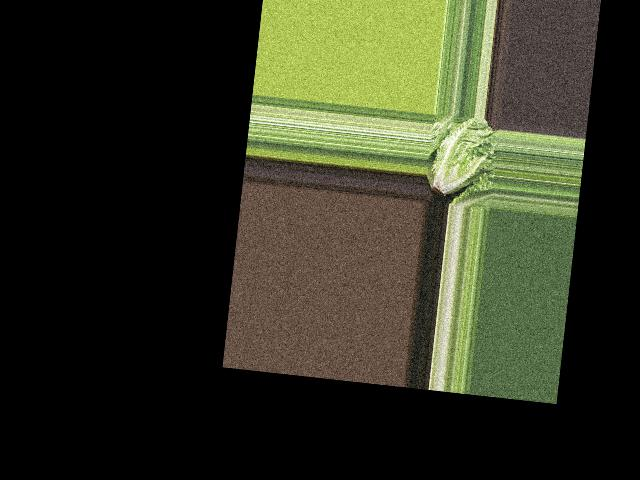lettuce: (423, 114, 495, 204)
